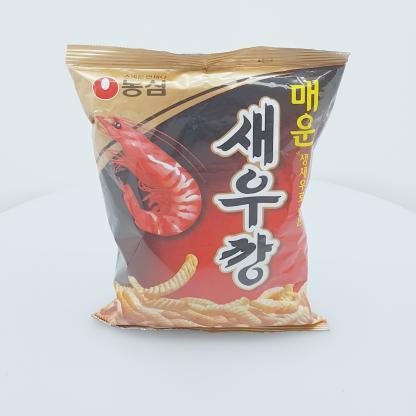Plastic Packaging: (63, 36, 353, 340)
